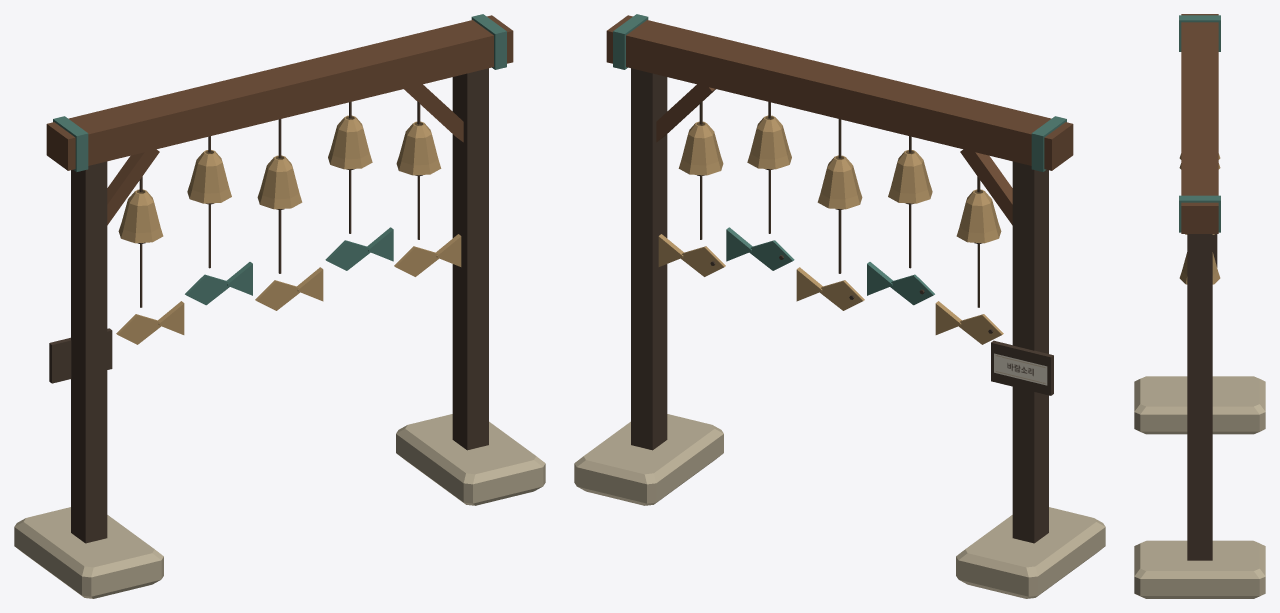
File: W06_Fish_Wind_Chimes.fbx
3 views of the same model, side by side, from view 1: azimuth 30°, elevation 25°; view 2: azimuth 150°, elevation 25°; view 3: azimuth 270°, elevation 25° (orthographic). The views are drawn at different scales.
Visible parts, largest first — view 1: Chime_Frame, Bells, Fish_Pendants, Front_Label; view 2: Chime_Frame, Bells, Fish_Pendants, Front_Label; view 3: Chime_Frame, Bells.
Boxes of the visible parts, x1,y1,x2,y2 form: Chime_Frame: [14, 14, 545, 598]; Bells: [118, 101, 441, 244]; Fish_Pendants: [116, 170, 461, 344]; Front_Label: [49, 328, 112, 383]; Chime_Frame: [574, 14, 1105, 598]; Bells: [678, 101, 1001, 244]; Fish_Pendants: [658, 170, 1003, 344]; Front_Label: [991, 340, 1053, 395]; Chime_Frame: [1134, 14, 1265, 598]; Bells: [1179, 153, 1220, 284].
Bounding box in the file's own units: 2.77 × 2.54 × 0.77.
7 materials, 1 textured.
